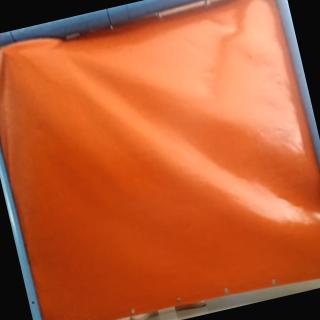Hit-hRxx: (0, 45, 12, 59)
